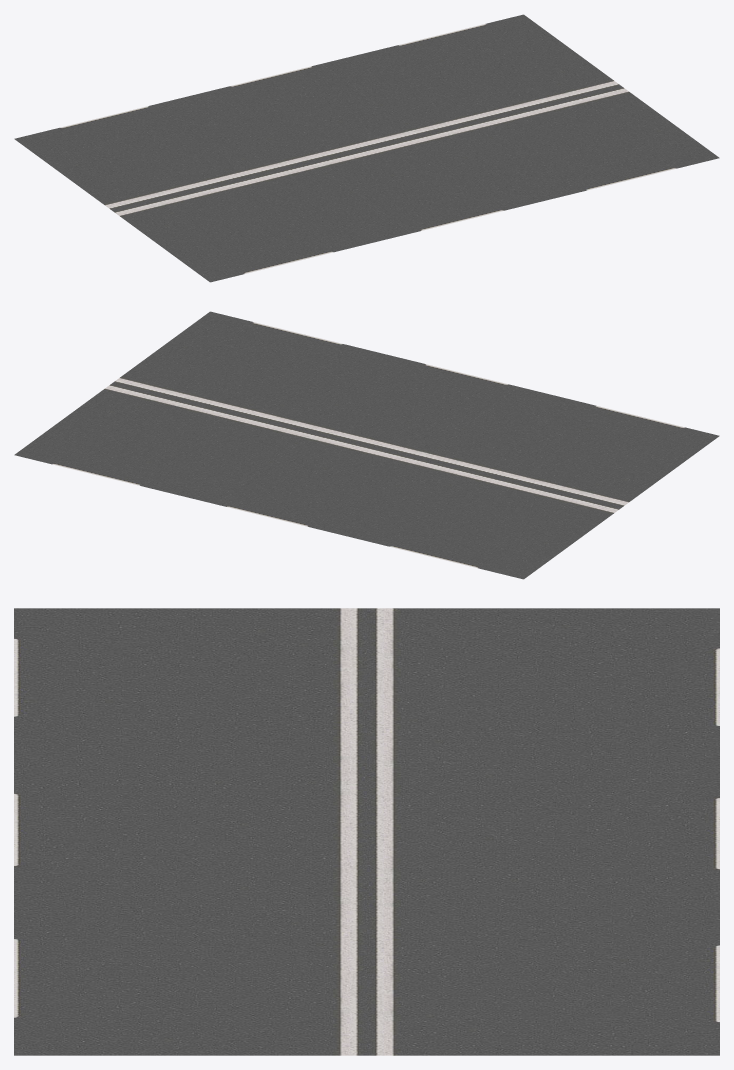
File: Road.FBX
The picture shows the model from 3 angles, top to bottom: view 1: azimuth 30°, elevation 25°; view 2: azimuth 150°, elevation 25°; view 3: azimuth 270°, elevation 25°; orthographic projection. The views are drawn at different scales.
Visible parts, largest first — view 1: 1x2; view 2: 1x2; view 3: 1x2.
Part boxes in pixels (x1,y1,x2,y2): 1x2: (14,14,719,282); 1x2: (14,311,719,579); 1x2: (14,608,719,1055).
Size of the model in its own units: 413 by 1.69e-14 by 276.
Materials: 1 (1 with a texture image).
